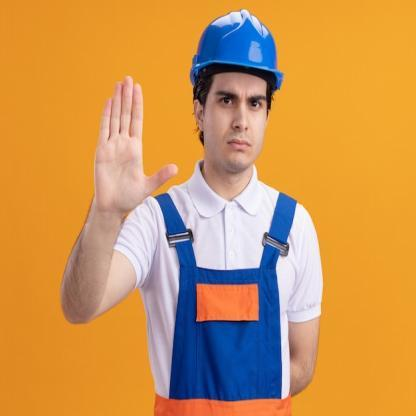stop: (91, 72, 180, 212)
